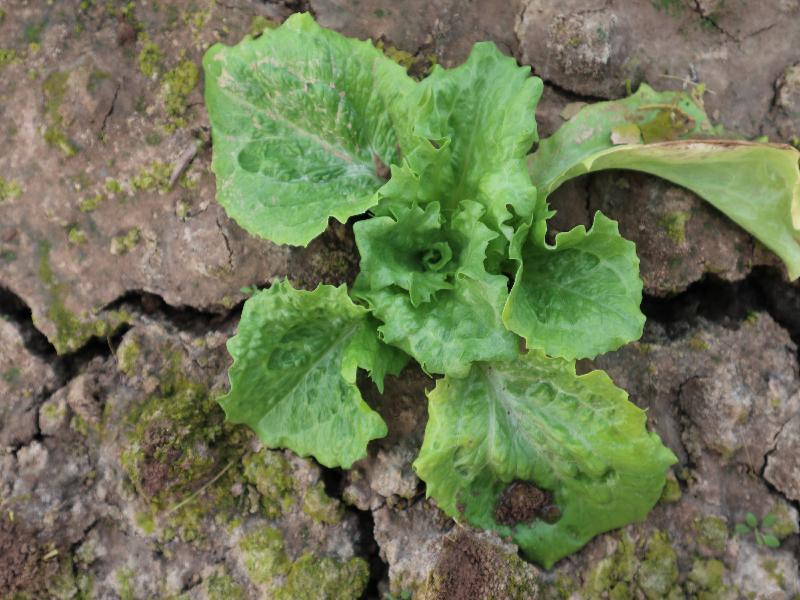lettuce: (196, 10, 679, 569)
